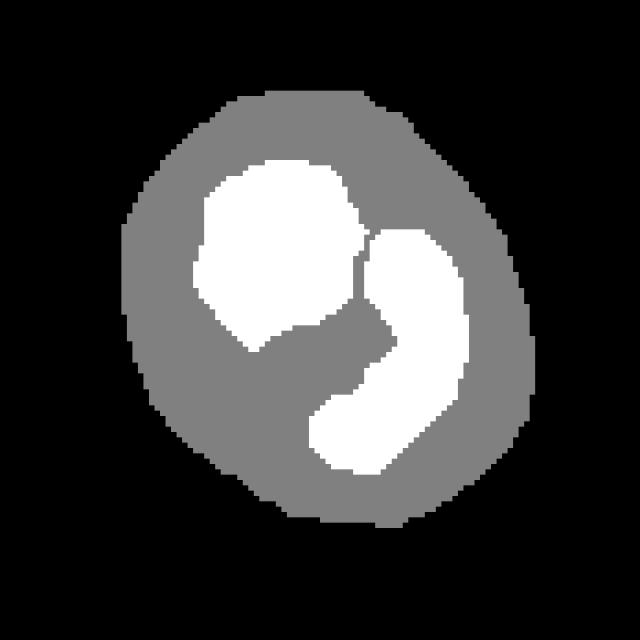WBC: (94, 69, 552, 539)
